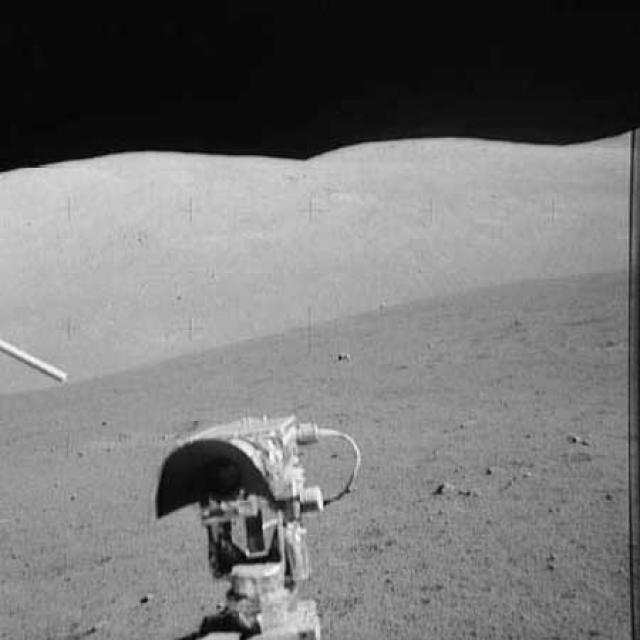artifact: (152, 415, 367, 639), (0, 335, 70, 391)
rock: (435, 477, 476, 505), (333, 348, 359, 371)
